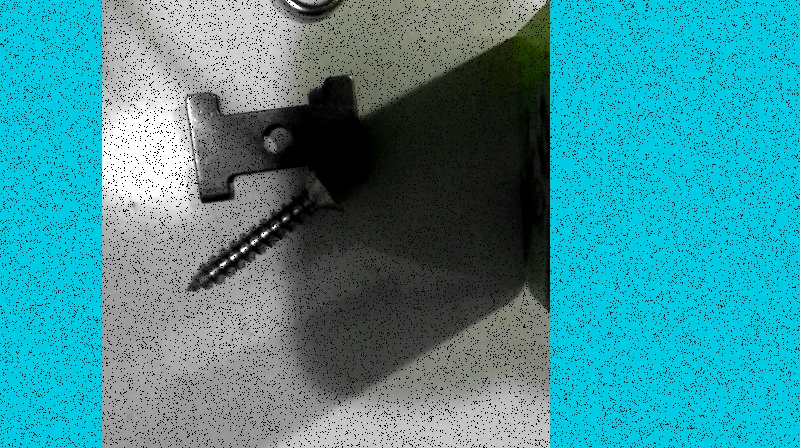O001: (268, 0, 437, 19)
O002: (182, 72, 367, 204)
S001: (184, 167, 350, 296)
